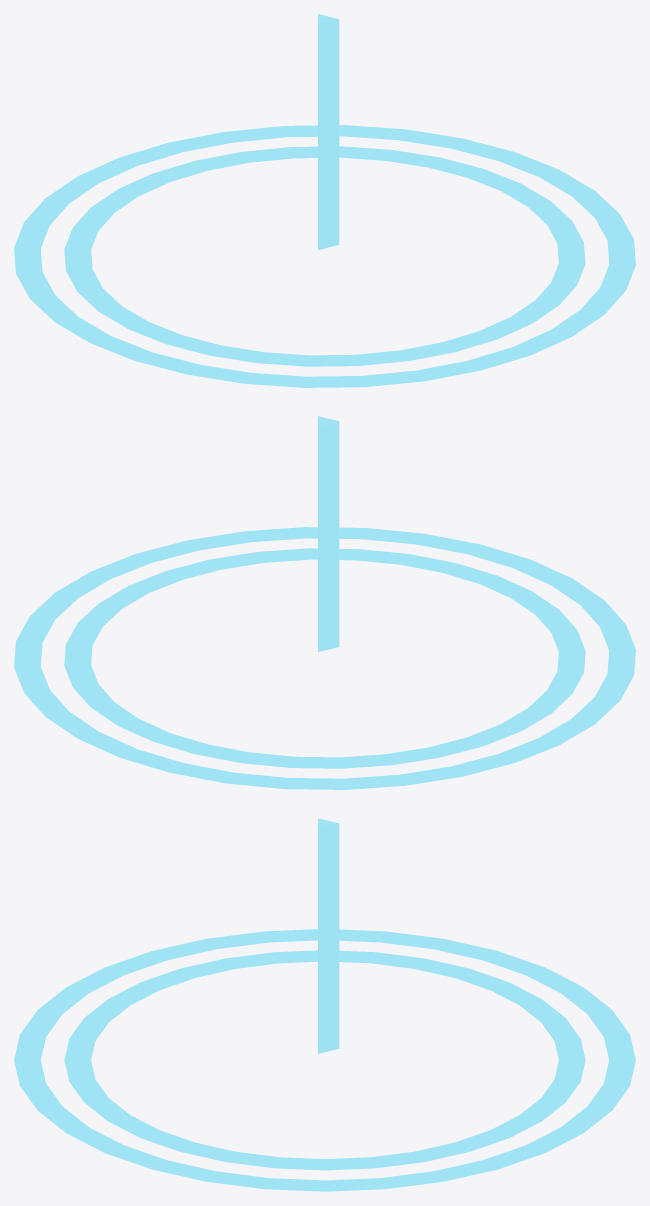
Rendered from Rectiles.gltf.
The picture shows the model from 3 angles, top to bottom: view 1: azimuth 30°, elevation 25°; view 2: azimuth 150°, elevation 25°; view 3: azimuth 270°, elevation 25°; orthographic projection.
Visible parts, largest first — view 1: Circle; view 2: Circle; view 3: Circle.
Boxes of the visible parts, box(x1,y1,x2,y2) form: Circle: box(14, 14, 635, 387); Circle: box(14, 416, 635, 789); Circle: box(14, 818, 635, 1191).
Bounding box in the file's own units: 0.2469 × 0.1037 × 0.2469.
